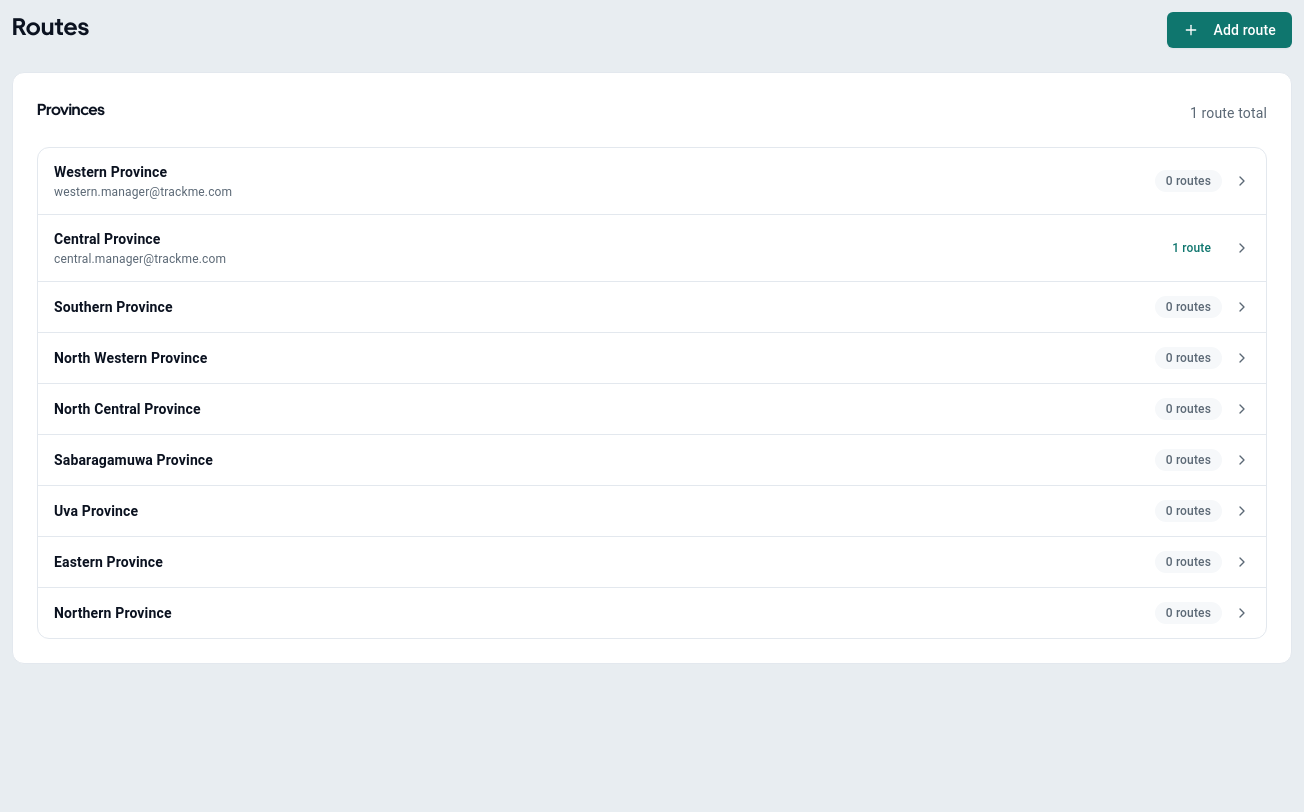
Test: RoutesPage › drills into a differently-cased province and shows its routes (issue #60)
This screenshot has width=1304, height=812.
Click the button "Central Province" at (77, 239), box [38,214,1266,281]
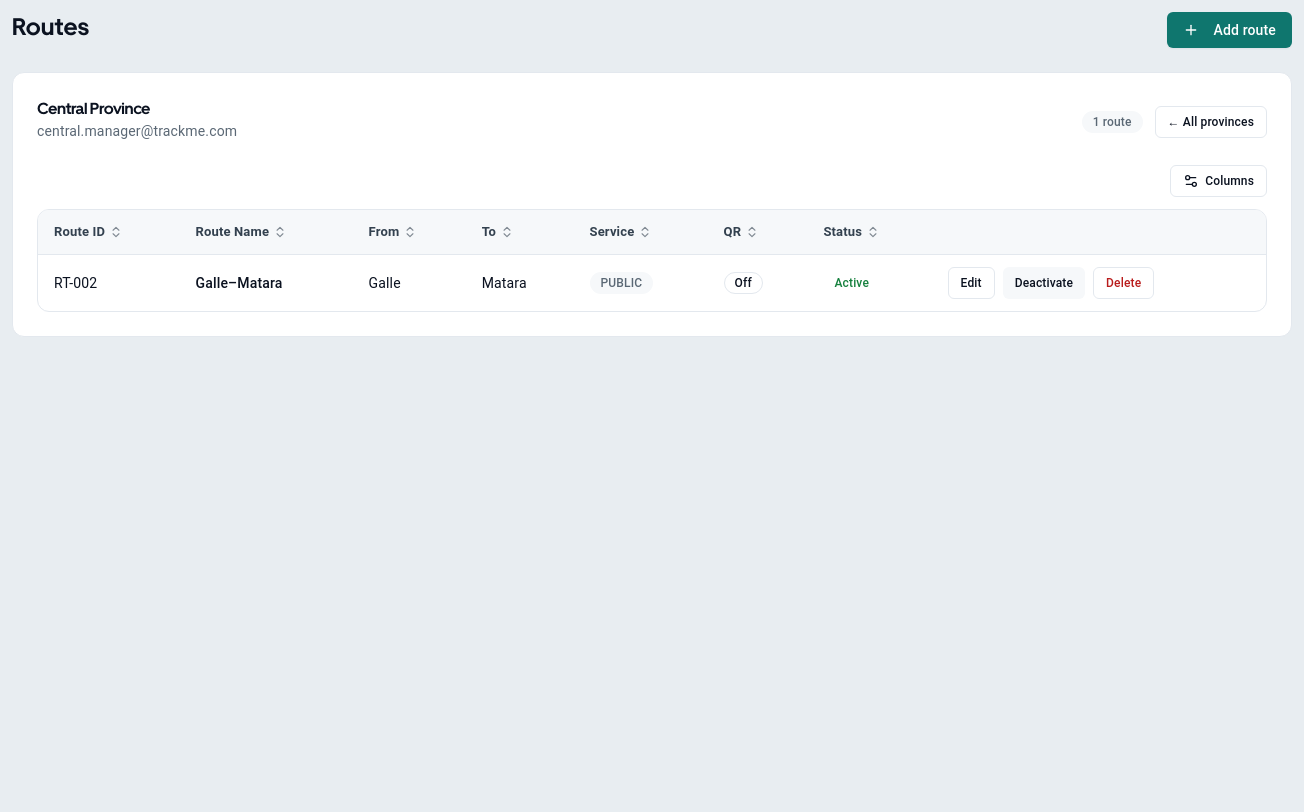
Now the text "Galle–Matara" is shown, box [196,274,282,290]
